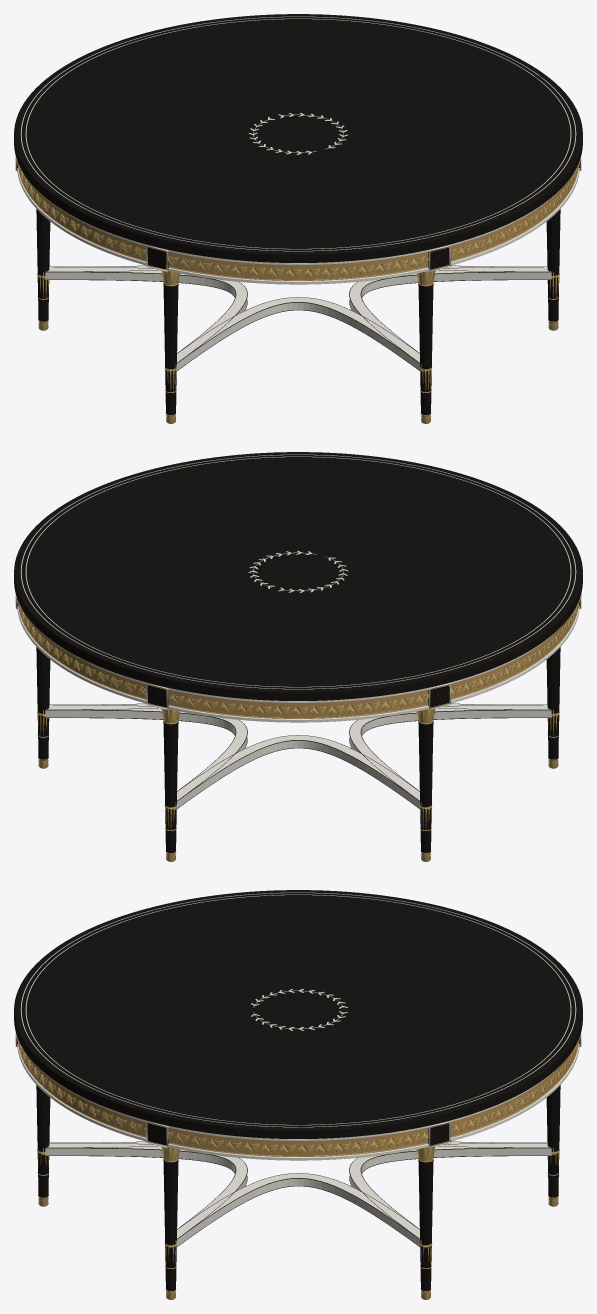
3 views of the same model, one above another, from view 1: azimuth 30°, elevation 25°; view 2: azimuth 150°, elevation 25°; view 3: azimuth 270°, elevation 25° (orthographic).
Parts seen in each view (by area): view 1: Wellington round six-leg coffee table | navy-4 web batch; view 2: Wellington round six-leg coffee table | navy-4 web batch; view 3: Wellington round six-leg coffee table | navy-4 web batch.
Part boxes in pixels (<box>): Wellington round six-leg coffee table | navy-4 web batch: <box>14,14,582,423</box>; Wellington round six-leg coffee table | navy-4 web batch: <box>14,452,582,861</box>; Wellington round six-leg coffee table | navy-4 web batch: <box>14,890,582,1299</box>.
Size of the model in its own units: 1.35 by 0.5107 by 1.35.
